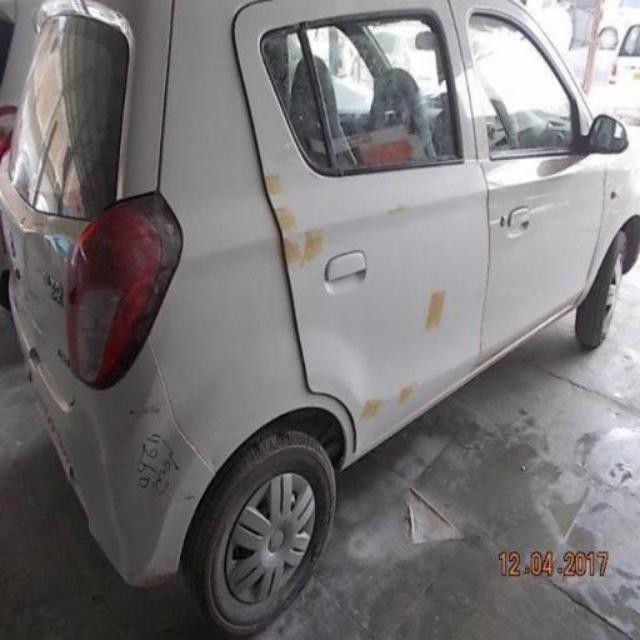crack: (125, 399, 165, 424)
dent: (384, 200, 415, 219)
rub: (426, 283, 451, 334), (357, 392, 384, 424), (304, 224, 327, 261), (275, 204, 300, 234), (285, 240, 306, 273), (265, 166, 285, 198), (396, 386, 415, 410)
